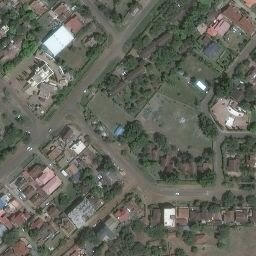tree: (197, 168, 214, 185), (58, 193, 72, 204), (154, 134, 166, 146), (203, 147, 214, 156), (93, 32, 102, 41), (120, 149, 130, 156), (216, 240, 224, 248), (130, 91, 138, 99), (191, 246, 197, 253)
